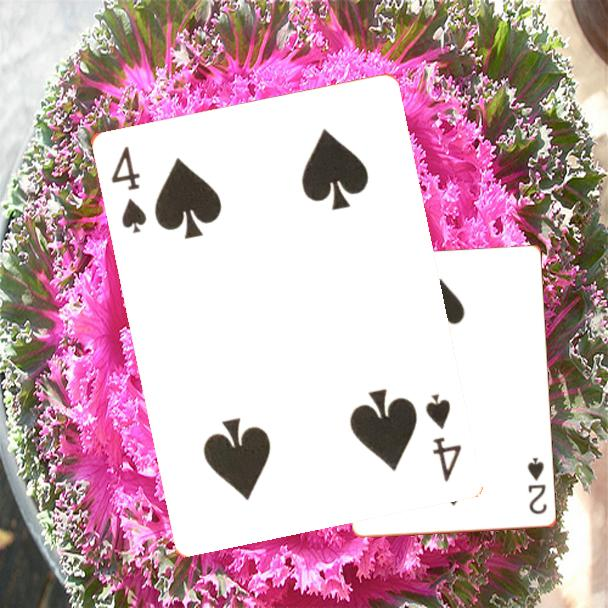s02: (524, 454, 550, 518)
s04: (421, 389, 464, 484), (107, 142, 149, 236)
